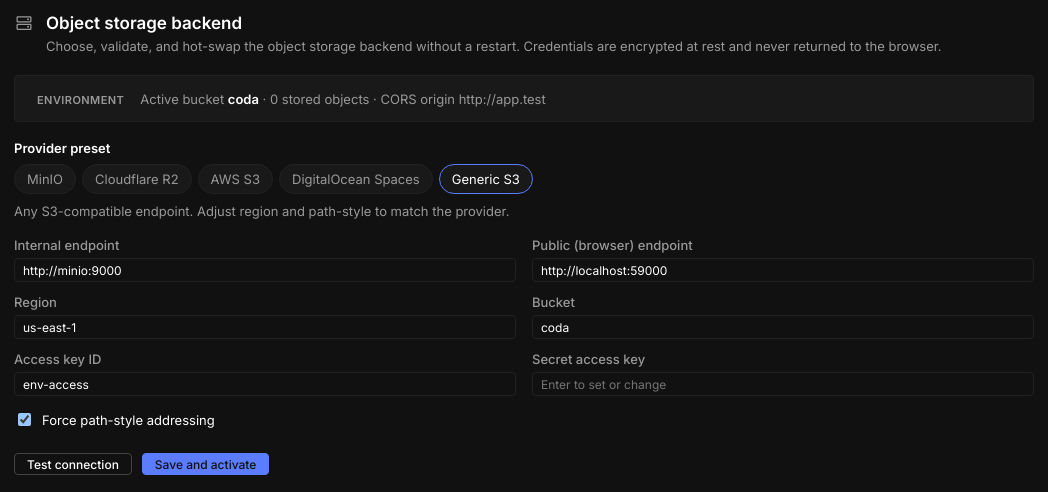
Test case: StorageSection › applies a provider preset, adjusting region and path style
Expected: the text "Environment" is shown, x1=29 y1=90 x2=132 y2=108
Click the radio button labelled "Cloudflare R2": click(137, 178) x1=82 y1=164 x2=192 y2=194
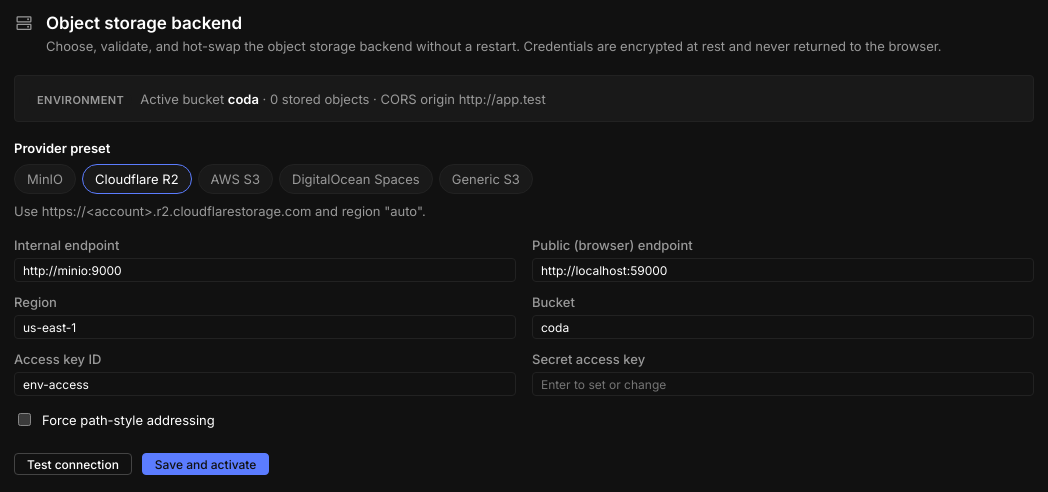
Expected: the field labelled "Region" holds "us-east-1", x1=14 y1=315 x2=516 y2=339
Expected: the checkbox labelled "Force path-style addressing" is not checked, x1=18 y1=413 x2=31 y2=426
